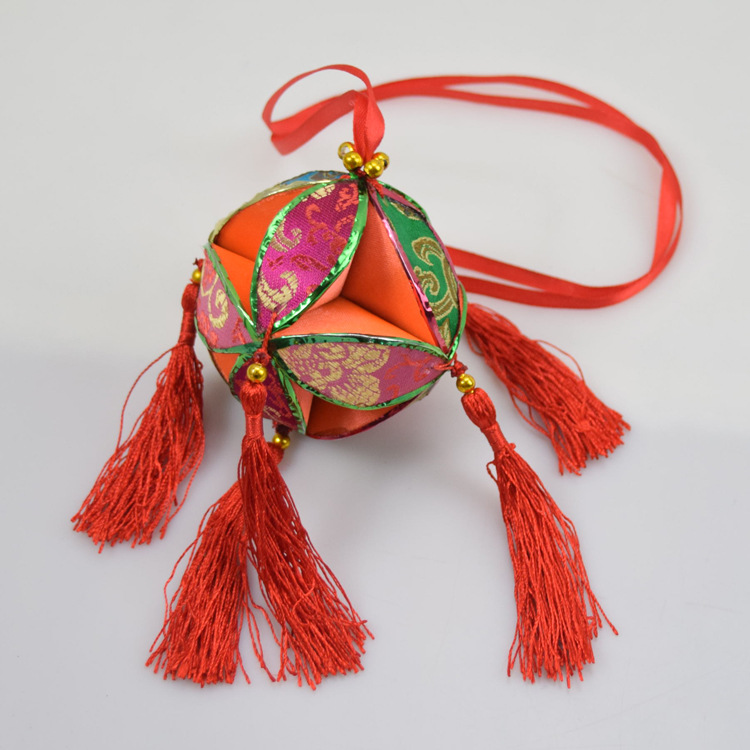xiuqiu: (192, 169, 466, 444)
